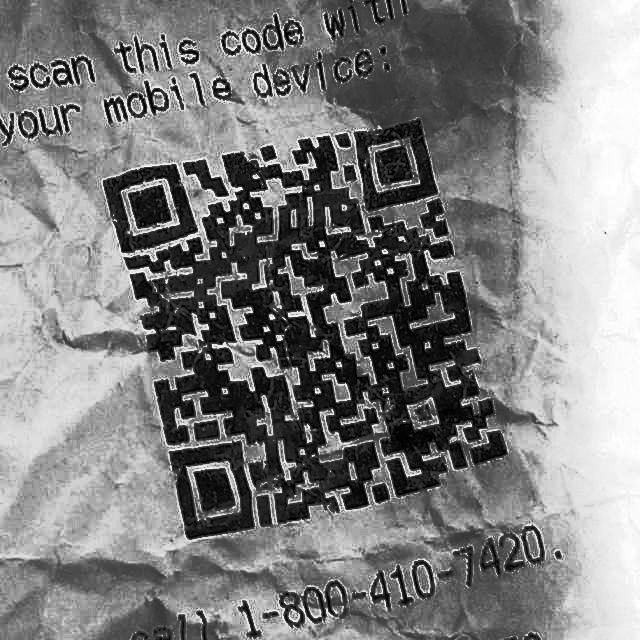qr_code: (93, 107, 520, 548)
